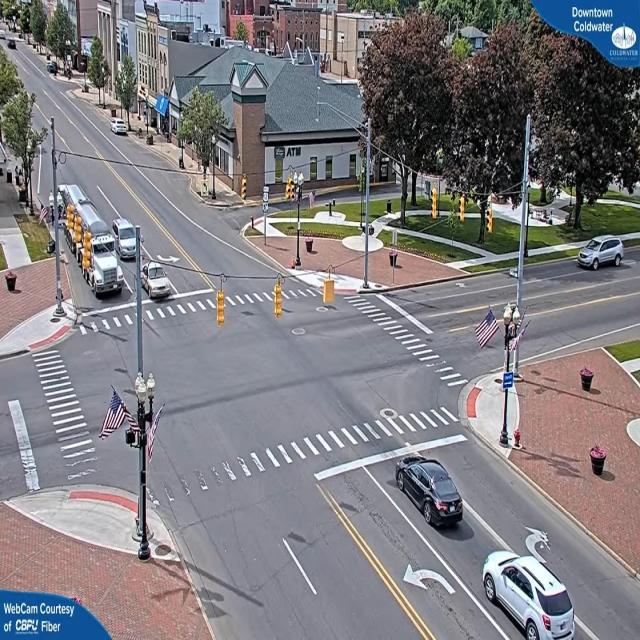car: (485, 552, 579, 640), (398, 459, 466, 531), (578, 234, 626, 270), (111, 219, 142, 260), (141, 263, 174, 300), (112, 122, 131, 138)
truck: (83, 238, 124, 295)
